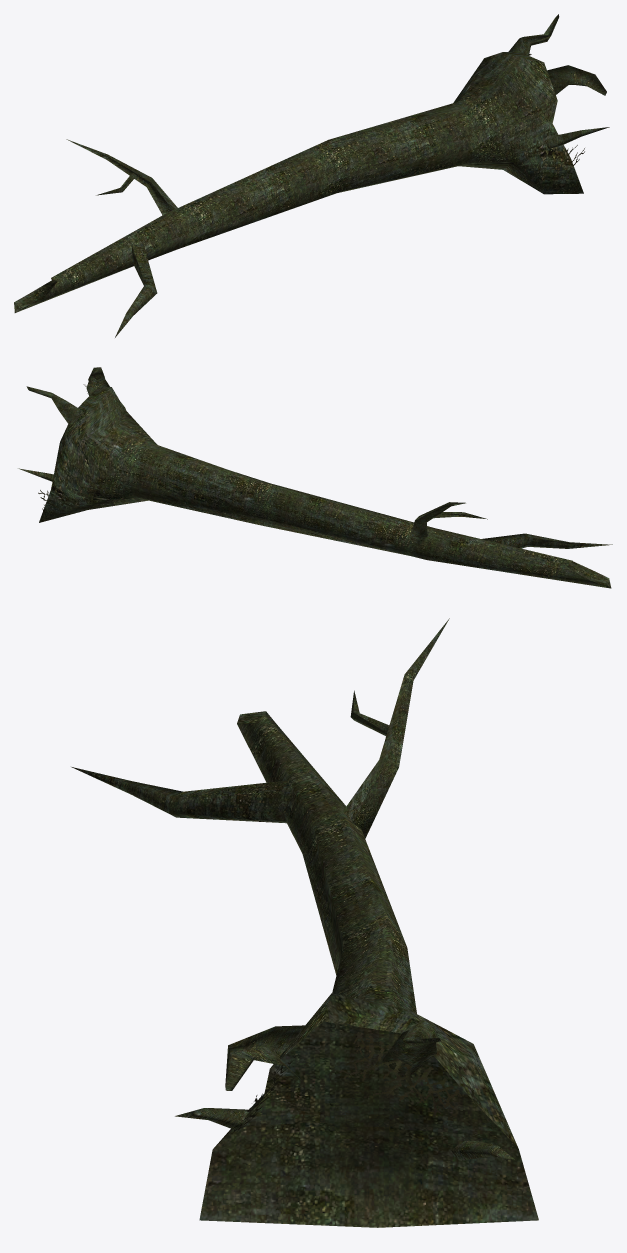
3 views of the same model, one above another, from view 1: azimuth 30°, elevation 25°; view 2: azimuth 150°, elevation 25°; view 3: azimuth 270°, elevation 25° (orthographic). The views are drawn at different scales.
Parts seen in each view (by area): view 1: _FT01; view 2: _FT01; view 3: _FT01.
Part boxes in pixels (bbox=[...]): _FT01: bbox=[14, 14, 609, 337]; _FT01: bbox=[18, 367, 612, 588]; _FT01: bbox=[71, 618, 538, 1227].
Size of the model in its own units: 11.84 by 2.43 by 4.64.
3 materials, 3 textured.
